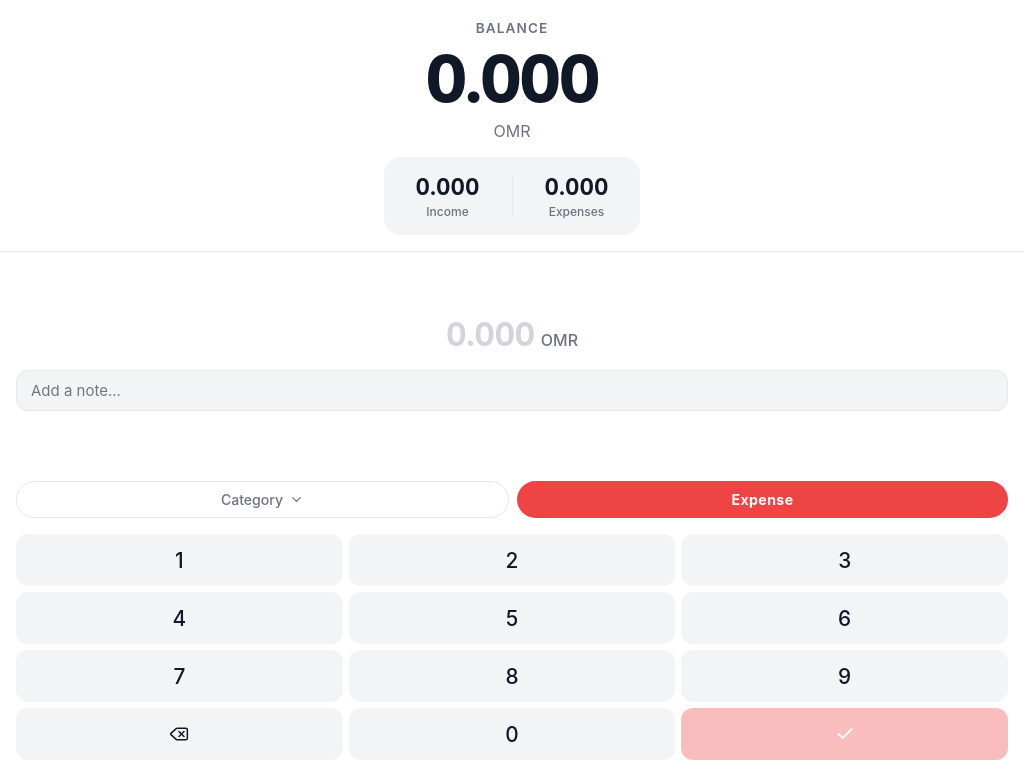
Test: EntryForm › shows income categories after switching to income mode
This screenshot has width=1024, height=768.
Click the button "Expense" at (762, 500), box [517,481,1008,518]
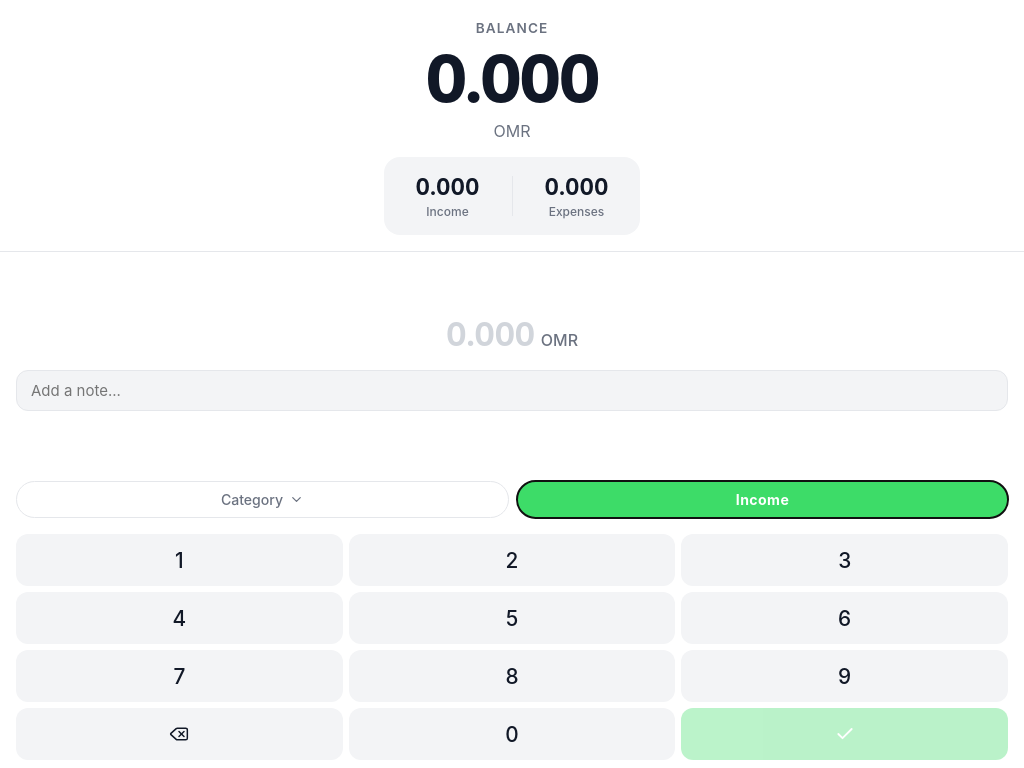
Click the button "Category" at (262, 500), box [16,481,509,518]
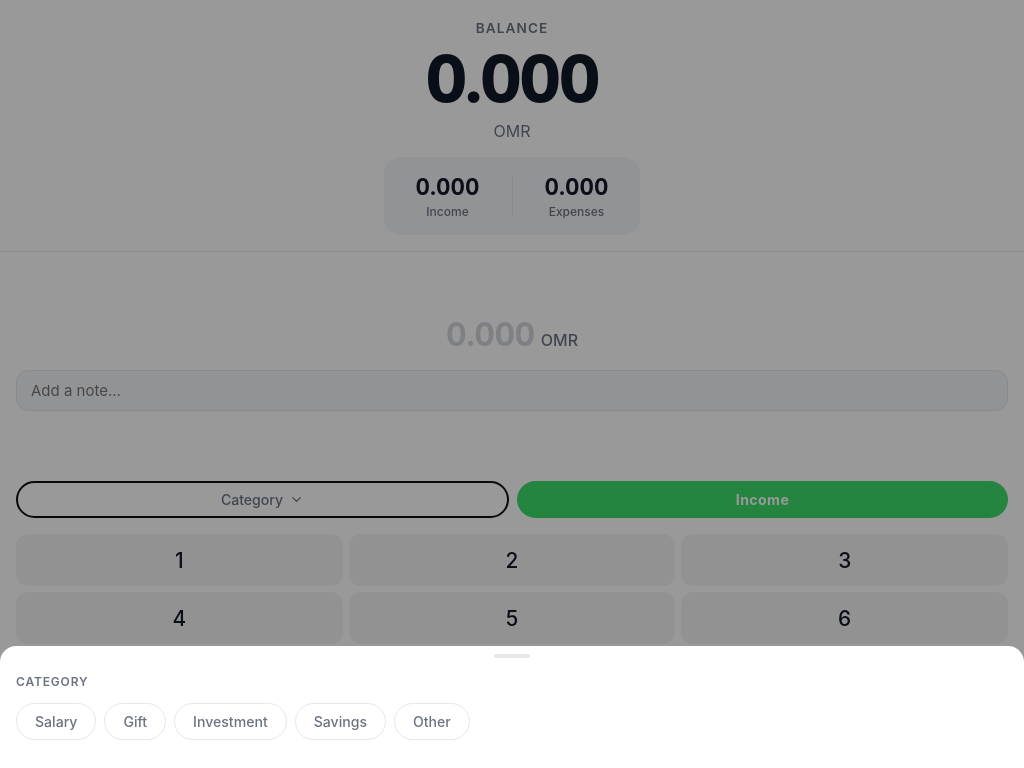
Expected: the button "Salary" is shown, [16,703,96,740]
